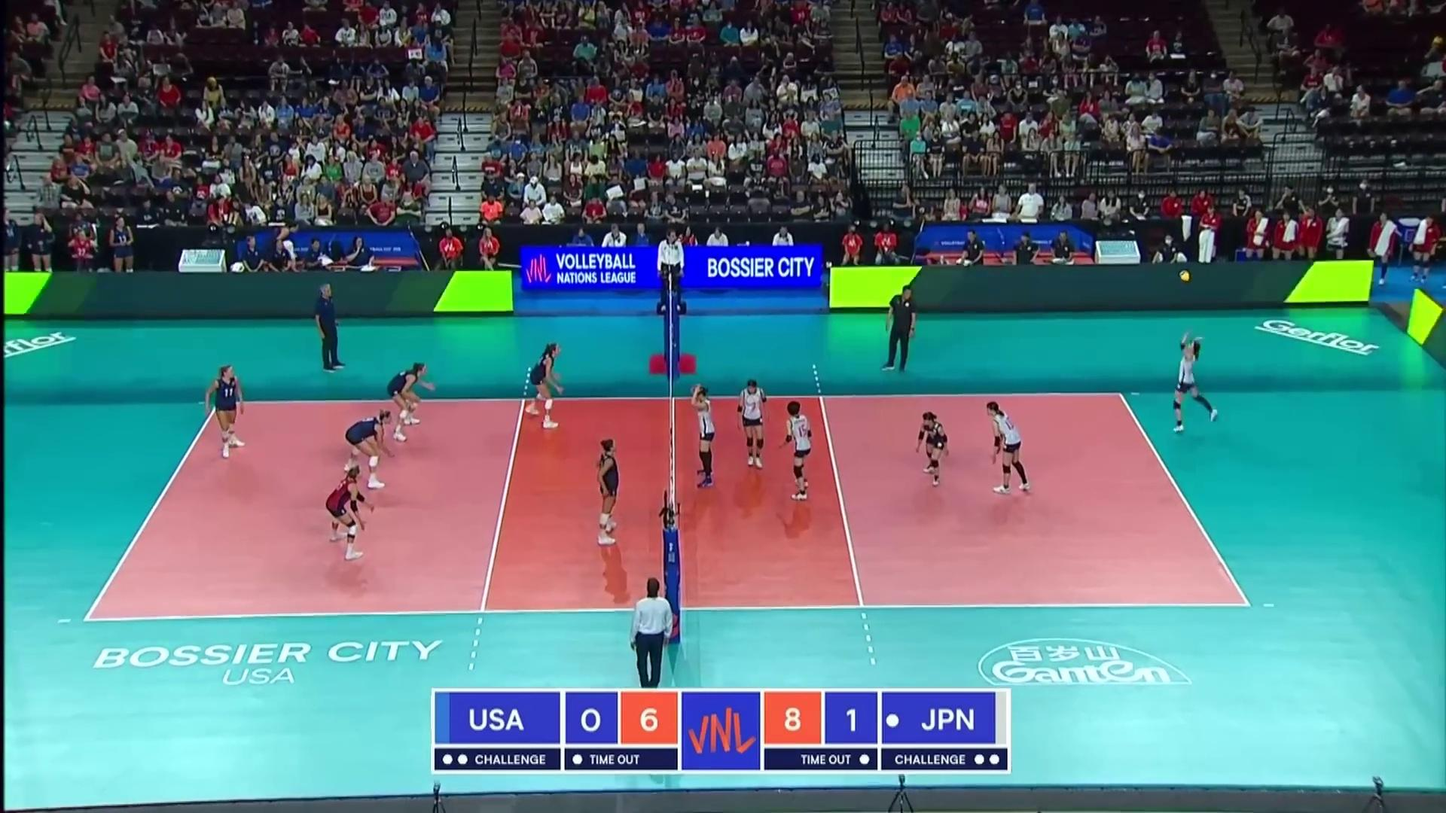player: (325, 464, 379, 562), (986, 402, 1034, 495), (1174, 332, 1219, 427), (344, 409, 394, 493), (387, 361, 436, 440), (206, 367, 247, 454), (524, 345, 564, 432), (736, 379, 773, 471), (783, 401, 816, 500), (691, 385, 720, 490), (596, 437, 623, 546), (916, 413, 952, 487)
refree: (629, 577, 674, 694), (657, 230, 688, 311)
